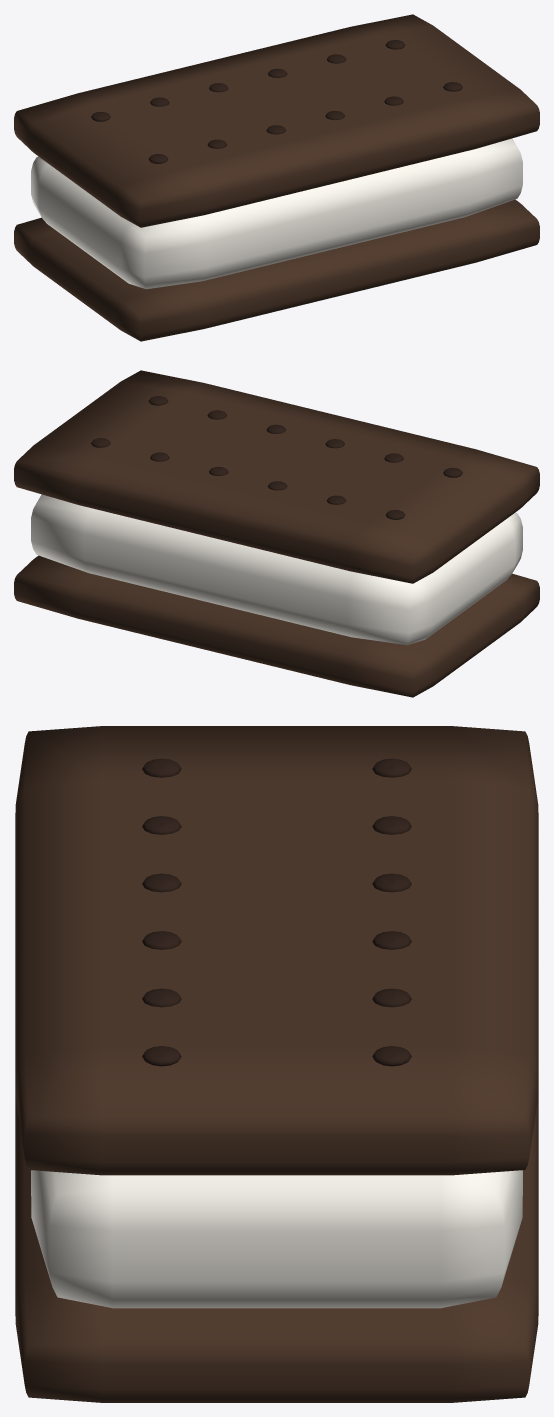
The model's file is ice_cream_sandwich.glb.
3 renders of one model, top to bottom at view 1: azimuth 30°, elevation 25°; view 2: azimuth 150°, elevation 25°; view 3: azimuth 270°, elevation 25°, orthographic. The views are drawn at different scales.
Visible parts, largest first — view 1: Cookies, Cream; view 2: Cookies, Cream; view 3: Cookies, Cream.
Boxes of the visible parts, x1,y1,x2,y2 form: Cookies: (14,14,539,341); Cream: (31,138,522,289); Cookies: (14,370,539,697); Cream: (31,494,522,645); Cookies: (15,726,538,1402); Cream: (31,1170,522,1308).
Bounding box in the file's own units: 0.09 × 0.0327 × 0.05.
